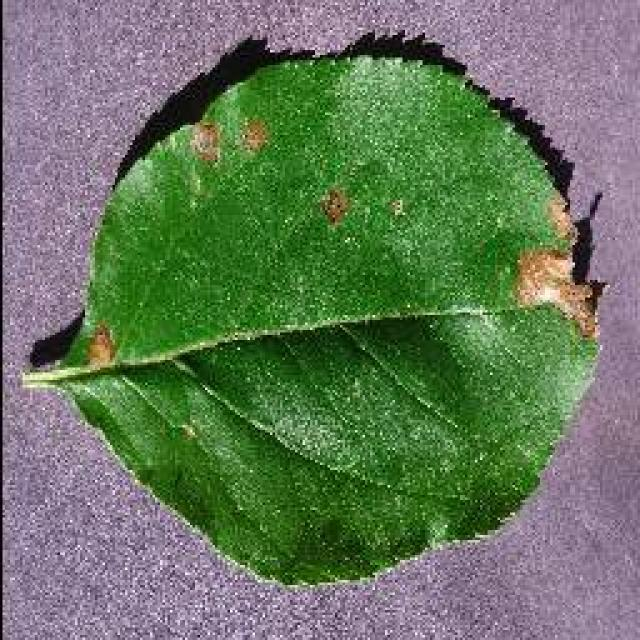apple black rot: (25, 25, 605, 587)
